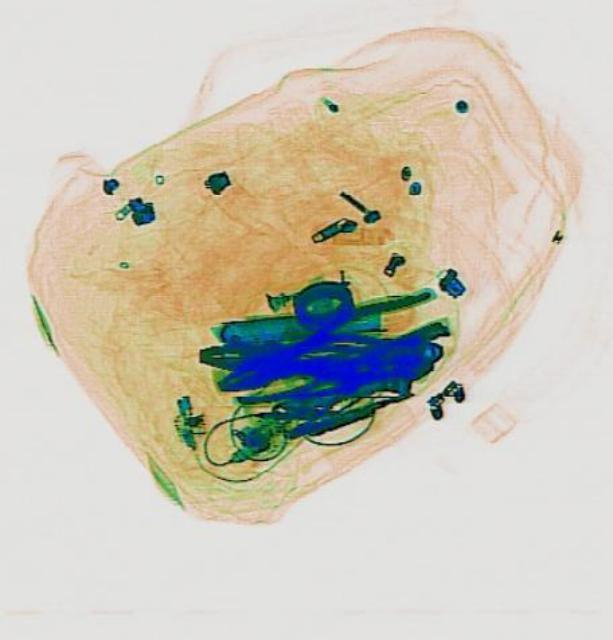Pliers: (206, 278, 449, 414)
